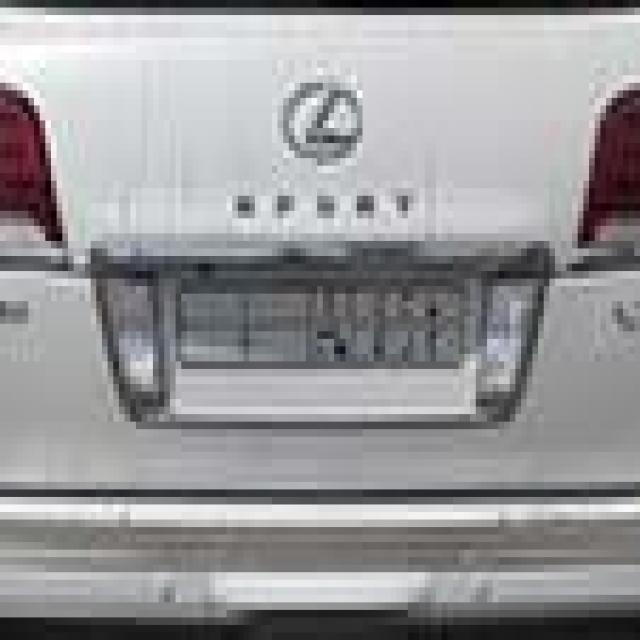license_plate: (108, 203, 538, 452)
